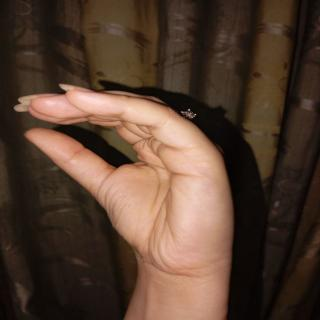JEEM: (2, 77, 243, 292)
